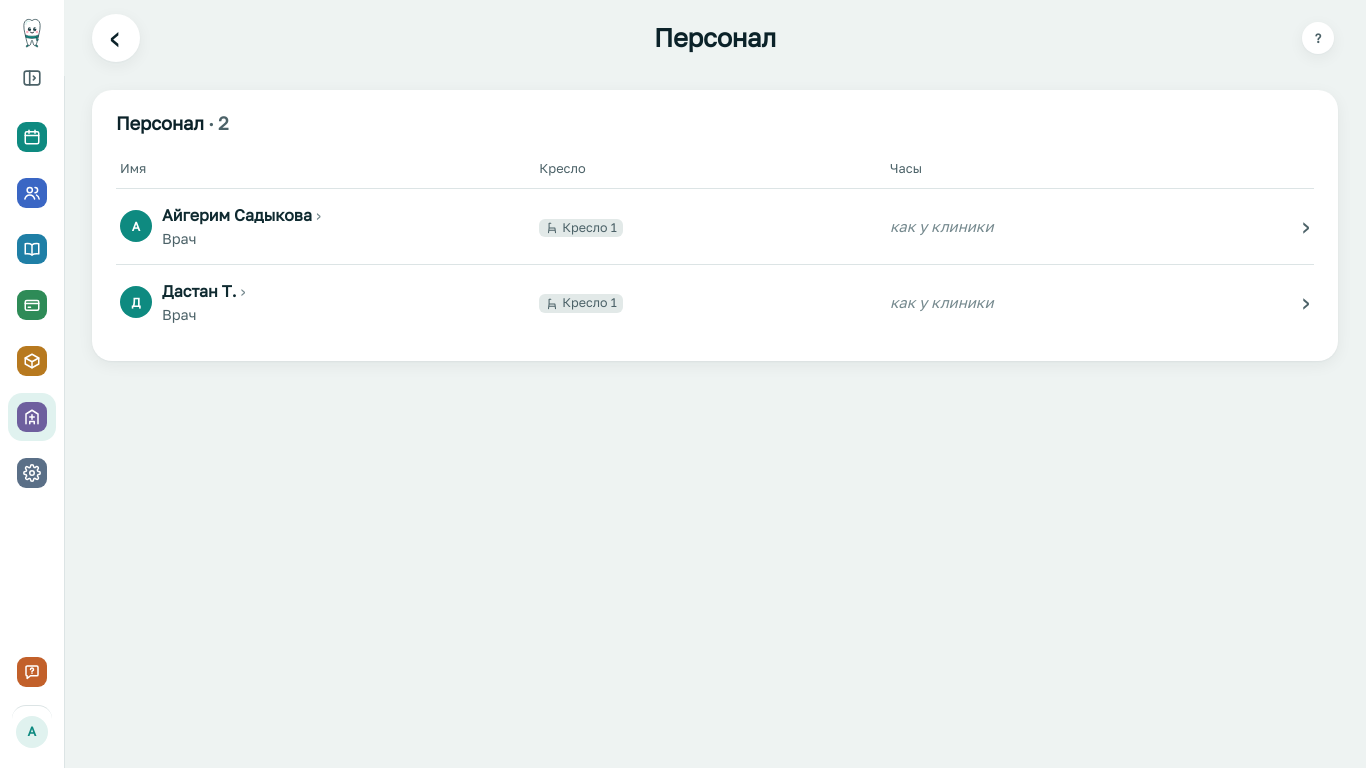
Test: не руководитель видит кресло врача, но не меняет
This screenshot has width=1366, height=768.
Click the button "Дастан Т.".
click(204, 291)  # box top-left (162, 279), bottom-right (246, 303)
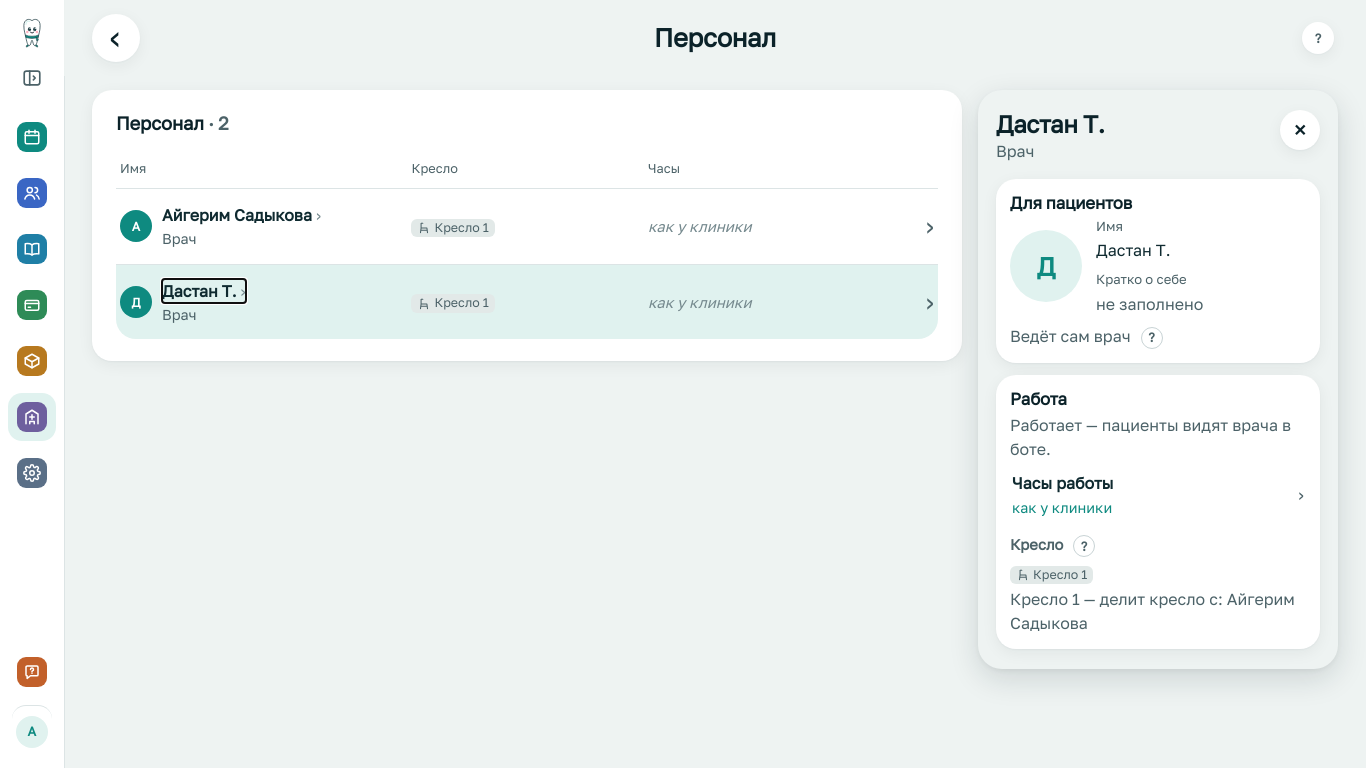
Result: the text "Кресло 1 — делит кресло с: Айгерим Садыкова" is shown at top-left (1010, 587), bottom-right (1306, 635)
